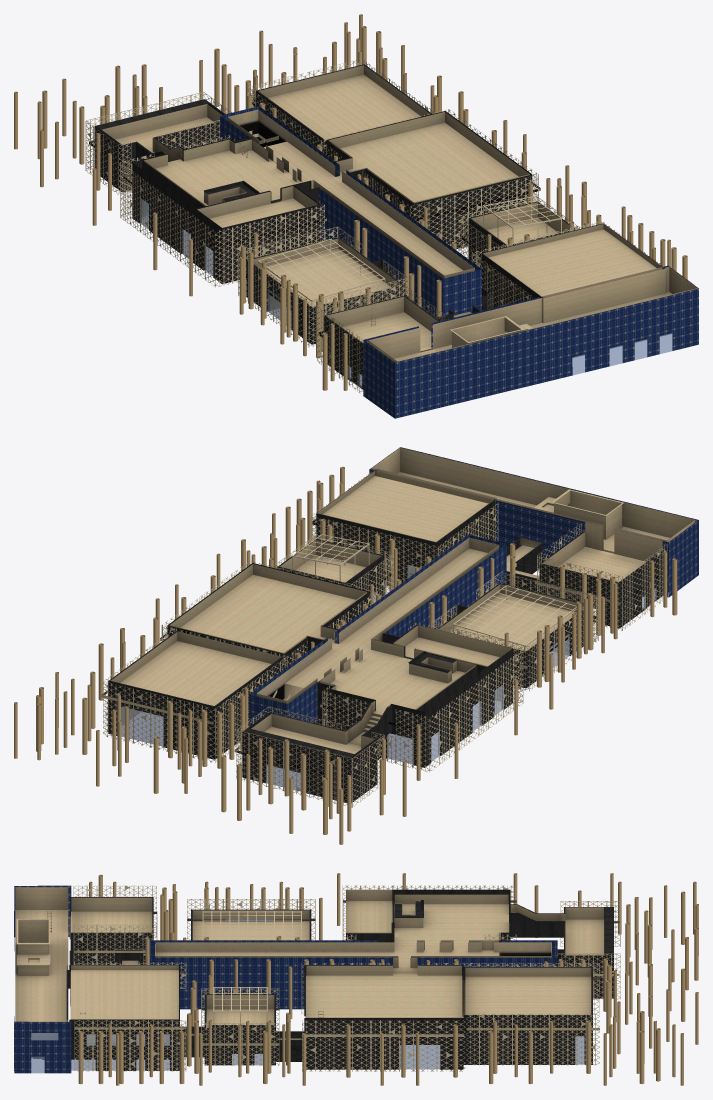
The model's file is EXPO_23_v4_optimized.gltf.
3 renders of one model, top to bottom at view 1: azimuth 30°, elevation 25°; view 2: azimuth 150°, elevation 25°; view 3: azimuth 270°, elevation 25°, orthographic. The views are drawn at different scales.
Visible parts, largest first — view 1: FLOORS_23, SOLS_23, DOS_23, added_Walls_23, CLT_23, Exteriors:WC_2_Big_Cube_23, Exteriors:WC_8_Big_Cube_23, Exteriors:WC_3_Big_Cube_23, Exteriors:WC_1_Cube_23, WINS_23, Exteriors:WC_4_Big_Cube_23, Exteriors:WC_3_Small_Cube_23 (+4 smaller); view 2: FLOORS_23, DOS_23, added_Walls_23, SOLS_23, CLT_23, Exteriors:WC_2_Big_Cube_23, Exteriors:WC_8_Big_Cube_23, Exteriors:WC_1_Cube_23, WINS_23, Exteriors:WC_4_Big_Cube_23, Exteriors:WC_3_Big_Cube_23, Exteriors:WC_6_Big_Cube_23 (+4 smaller); view 3: FLOORS_23, DOS_23, added_Walls_23, SOLS_23, CLT_23, Exteriors:WC_8_Big_Cube_23, Exteriors:WC_6_Big_Cube_23, WINS_23, Exteriors:WC_4_Big_Cube_23, Exteriors:WC_7_Big_Cube_23, Exteriors:WC_1_Cube_23, Exteriors:WC_3_Small_Cube_23 (+3 smaller).
Boxes of the visible parts, bbox=[...] form: FLOORS_23: bbox=[115, 74, 671, 361]; SOLS_23: bbox=[220, 106, 698, 418]; DOS_23: bbox=[94, 64, 663, 389]; added_Walls_23: bbox=[102, 65, 697, 362]; CLT_23: bbox=[89, 99, 671, 367]; Exteriors:WC_2_Big_Cube_23: bbox=[120, 135, 324, 287]; Exteriors:WC_8_Big_Cube_23: bbox=[247, 59, 538, 249]; Exteriors:WC_3_Big_Cube_23: bbox=[238, 226, 408, 347]; Exteriors:WC_1_Cube_23: bbox=[85, 91, 231, 194]; WINS_23: bbox=[140, 198, 672, 389]; Exteriors:WC_4_Big_Cube_23: bbox=[317, 284, 448, 393]; Exteriors:WC_3_Small_Cube_23: bbox=[258, 239, 385, 306]; FLOORS_23: bbox=[120, 472, 669, 753]; DOS_23: bbox=[108, 470, 663, 802]; added_Walls_23: bbox=[110, 447, 695, 748]; SOLS_23: bbox=[249, 447, 698, 726]; CLT_23: bbox=[101, 489, 663, 779]; Exteriors:WC_2_Big_Cube_23: bbox=[322, 623, 523, 771]; Exteriors:WC_8_Big_Cube_23: bbox=[103, 561, 375, 762]; Exteriors:WC_1_Cube_23: bbox=[236, 706, 384, 807]; WINS_23: bbox=[121, 564, 662, 791]; Exteriors:WC_4_Big_Cube_23: bbox=[537, 523, 667, 630]; Exteriors:WC_3_Big_Cube_23: bbox=[431, 572, 598, 691]; Exteriors:WC_6_Big_Cube_23: bbox=[311, 473, 498, 588]; FLOORS_23: bbox=[15, 901, 603, 1044]; DOS_23: bbox=[66, 889, 613, 1070]; added_Walls_23: bbox=[15, 887, 603, 1039]; SOLS_23: bbox=[14, 885, 557, 1073]; CLT_23: bbox=[16, 900, 619, 1059]; Exteriors:WC_8_Big_Cube_23: bbox=[301, 963, 599, 1071]; Exteriors:WC_6_Big_Cube_23: bbox=[74, 962, 186, 1071]; WINS_23: bbox=[31, 919, 584, 1073]; Exteriors:WC_4_Big_Cube_23: bbox=[73, 885, 156, 964]; Exteriors:WC_7_Big_Cube_23: bbox=[201, 988, 279, 1065]; Exteriors:WC_1_Cube_23: bbox=[560, 901, 620, 999]; Exteriors:WC_3_Small_Cube_23: bbox=[202, 911, 301, 939].
Size of the model in its own units: 13.35 by 2.39 by 23.96.
Materials: 21 (18 with a texture image).
